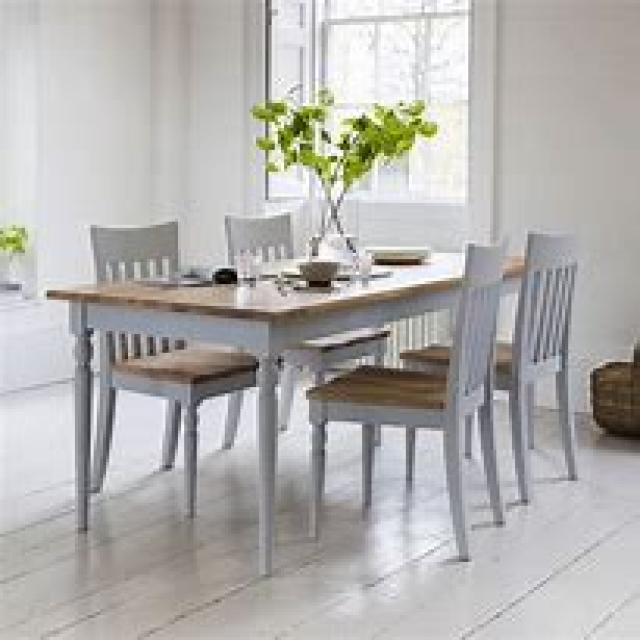chair: (303, 237, 506, 562), (84, 219, 259, 518), (397, 228, 578, 503), (222, 209, 390, 450)
table: (43, 243, 550, 574)
